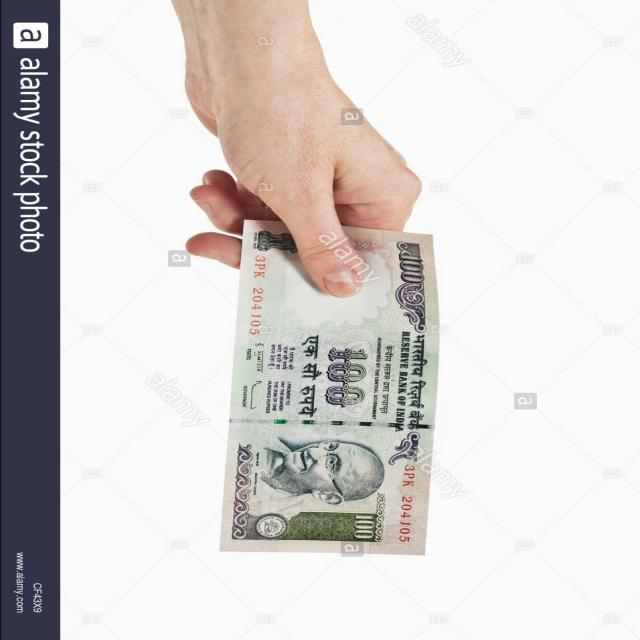100IndianRupees: (214, 219, 437, 555)
